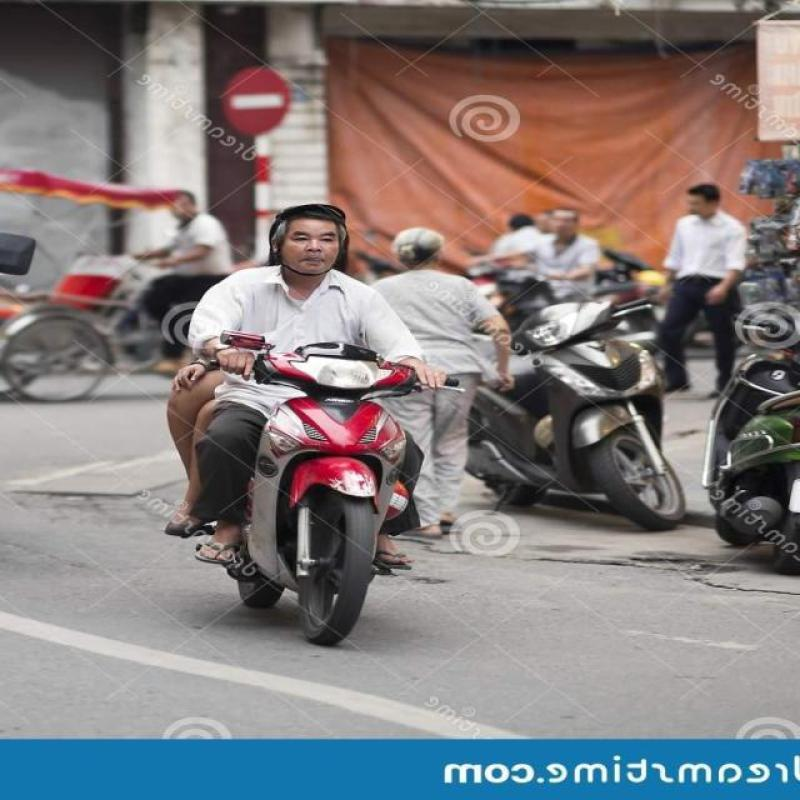nohelmet: (260, 194, 375, 308)
